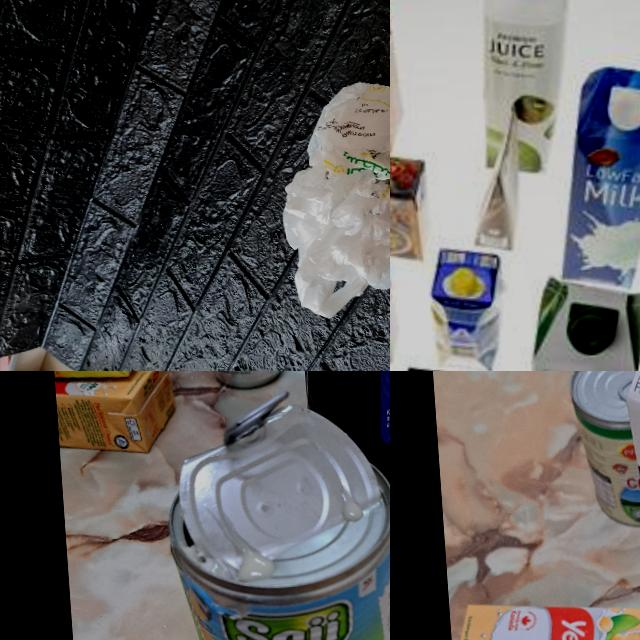aba de lata: (220, 388, 292, 448)
caixinha: (543, 62, 640, 294), (510, 268, 640, 371), (424, 244, 512, 371), (53, 371, 178, 458), (449, 588, 640, 640)
garrafa de vidro: (295, 371, 390, 510)
lata: (160, 395, 390, 640), (567, 371, 640, 531)
sacola plástica: (270, 72, 390, 322)
tampa plástica: (562, 308, 616, 358), (605, 89, 640, 134), (448, 265, 476, 300)
